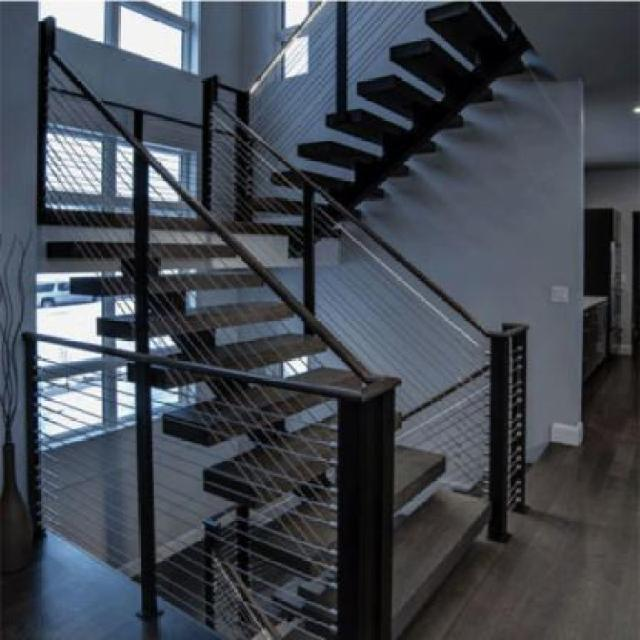stair: (9, 68, 528, 640)
